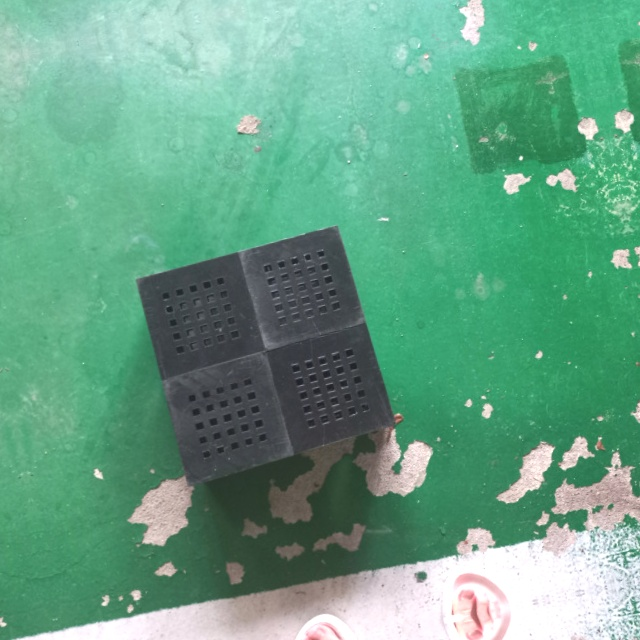pallet: (128, 218, 402, 496)
